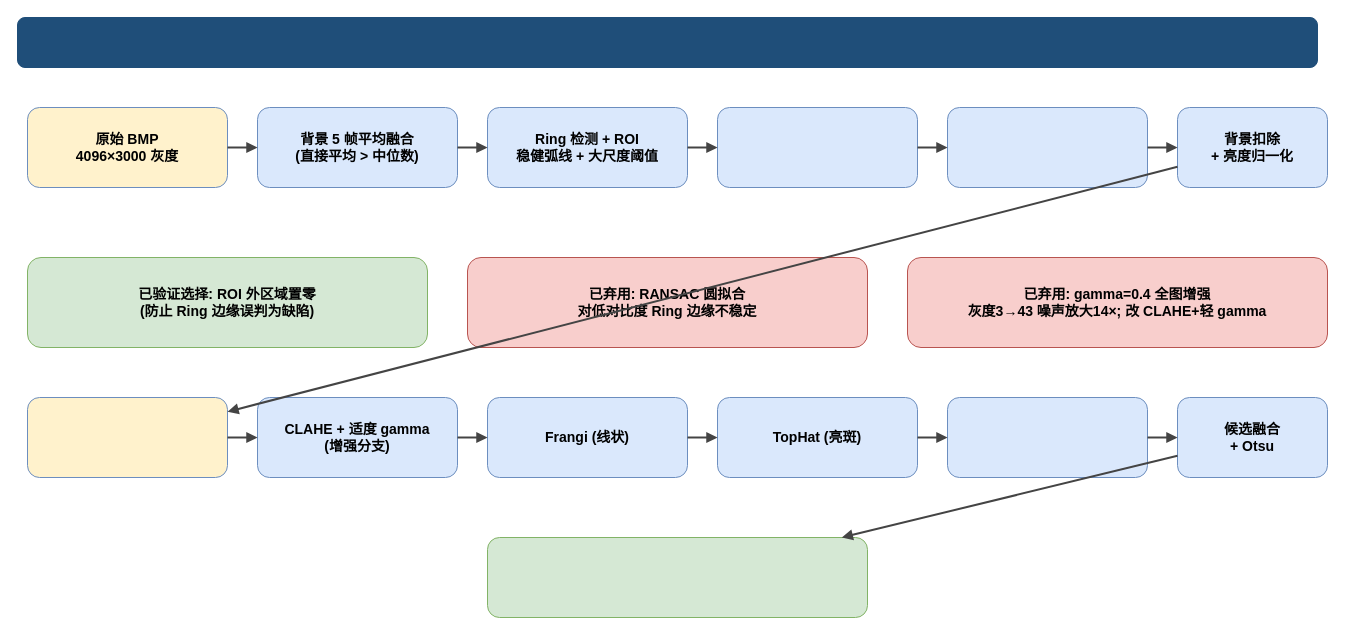
Some shapes in this 1345 by 635 pixel diagram are drawn without their labels. Each missing label, with the centre of its shape:
"ECC 仿射精配准 (maximize ρ)" belongs at (x=1047, y=147).
"亮度通道 (原始图)" belongs at (x=1047, y=437).
"暗场全图预处理流水线 (Phase 0-1)" belongs at (x=667, y=42).
"标准化输出图" belongs at (x=127, y=437).
"相位相关粗配准 (频域)" belongs at (x=817, y=147).
"输出: 640×640 切片 + 弱标签 + 审核叠加图 (YOLO 训练直接可用)" belongs at (x=677, y=577).
